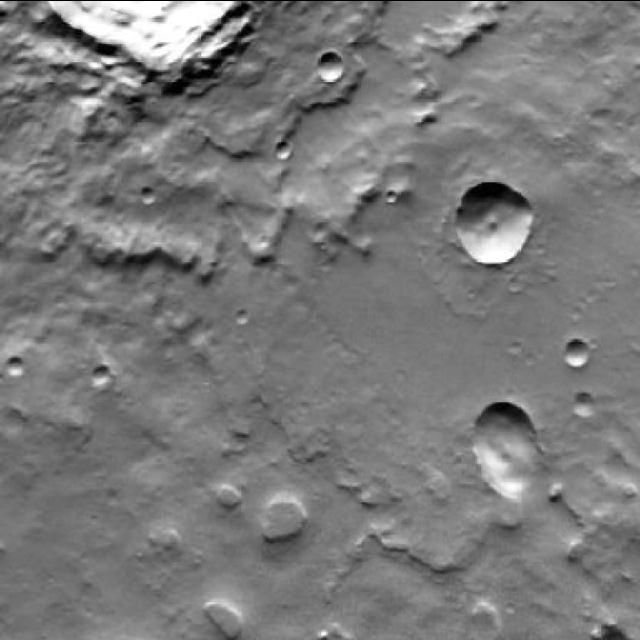crater: (0, 0, 258, 120), (466, 403, 542, 492), (462, 180, 536, 262), (317, 54, 345, 85), (562, 340, 588, 368), (572, 393, 594, 418), (5, 356, 24, 378), (94, 366, 111, 384), (272, 140, 288, 158), (140, 187, 156, 204)
